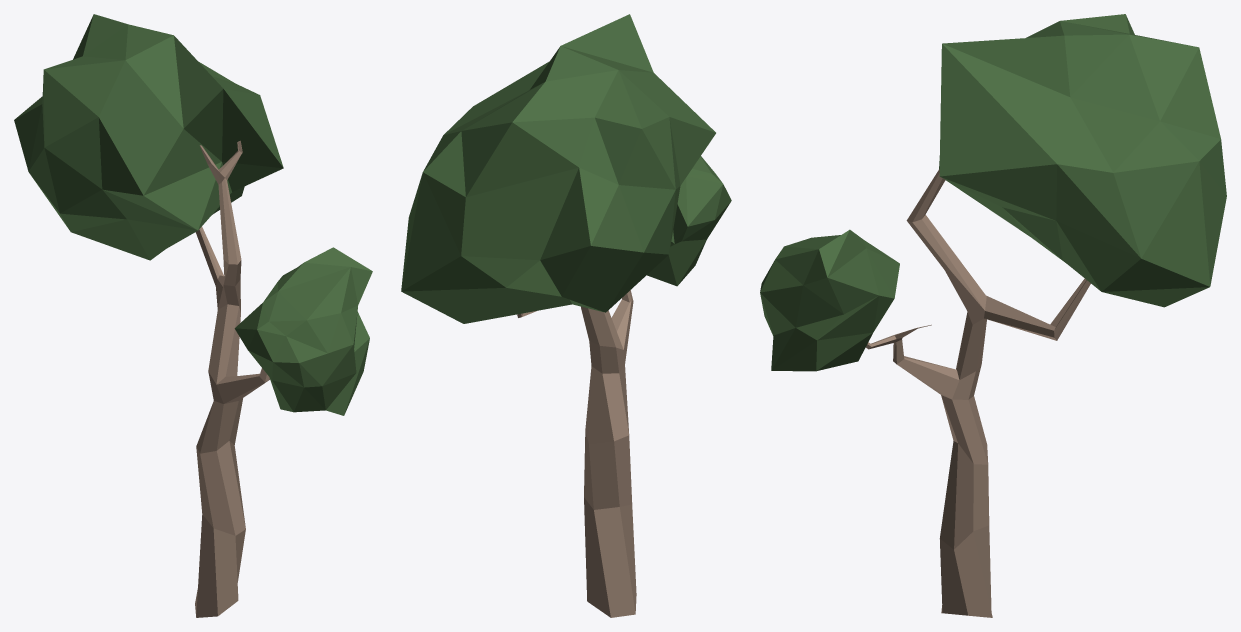
The model's file is tree3.fbx.
3 renders of one model, left to right at view 1: azimuth 30°, elevation 25°; view 2: azimuth 150°, elevation 25°; view 3: azimuth 270°, elevation 25°, orthographic. The views are drawn at different scales.
Visible parts, largest first — view 1: Icosphere, Icosphere.001, Tree; view 2: Icosphere, Tree, Icosphere.001; view 3: Icosphere, Tree, Icosphere.001.
Boxes of the visible parts, x1,y1,x2,y2 form: Icosphere: (14, 14, 283, 260); Icosphere.001: (234, 247, 372, 415); Tree: (195, 140, 269, 617); Icosphere: (401, 14, 715, 323); Tree: (517, 290, 636, 617); Icosphere.001: (647, 156, 731, 286); Icosphere: (939, 14, 1226, 307); Tree: (865, 169, 1090, 617); Icosphere.001: (760, 229, 899, 371).
Size of the model in its own units: 209 by 495 by 354.
